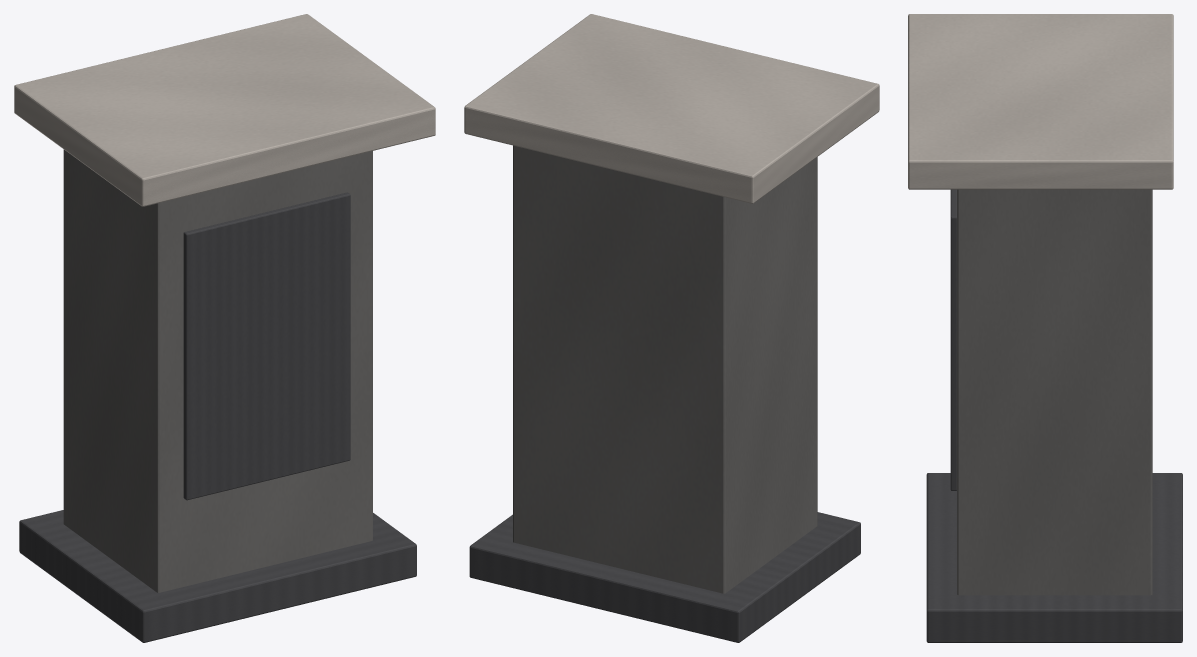
The model's file is briefing_lectern.glb.
The picture shows the model from 3 angles, left to right: view 1: azimuth 30°, elevation 25°; view 2: azimuth 150°, elevation 25°; view 3: azimuth 270°, elevation 25°; orthographic projection. The views are drawn at different scales.
Parts seen in each view (by area): view 1: stand.001, top.005, front_inset.001, base.017; view 2: stand.001, top.005, base.017; view 3: stand.001, top.005, base.017, front_inset.001.
Boxes of the visible parts, x1,y1,x2,y2 form: stand.001: [63, 149, 372, 592]; top.005: [14, 14, 435, 206]; front_inset.001: [183, 192, 350, 500]; base.017: [19, 510, 416, 642]; stand.001: [513, 145, 817, 593]; top.005: [464, 14, 879, 203]; base.017: [469, 512, 860, 642]; stand.001: [957, 189, 1152, 595]; top.005: [908, 14, 1173, 189]; base.017: [926, 473, 1182, 642]; front_inset.001: [950, 189, 956, 490].
Bounding box in the file's own units: 0.75 × 1.16 × 0.59.
3 materials, 3 textured.
